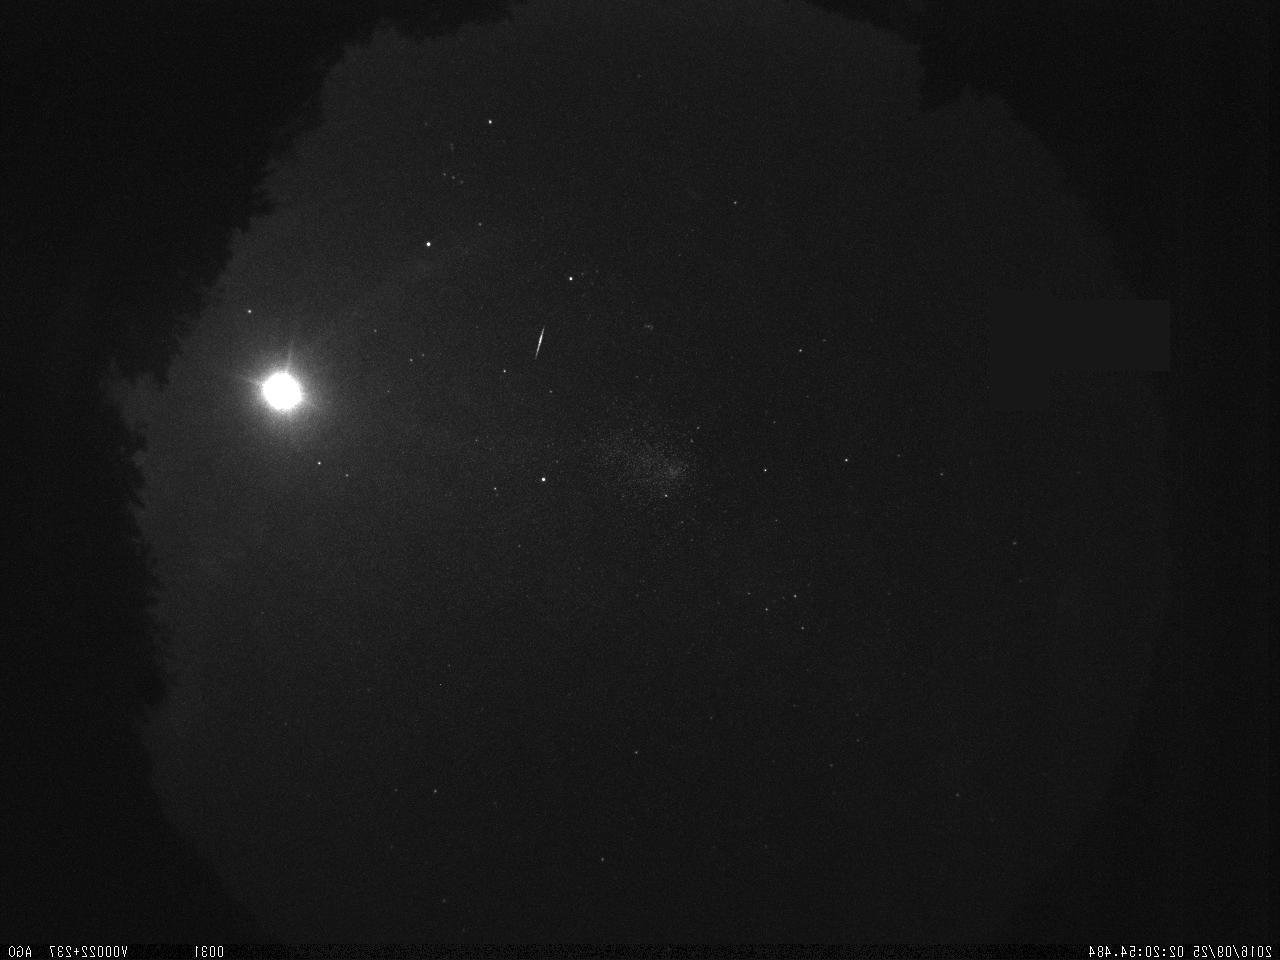meteor: (520, 318, 553, 368)
